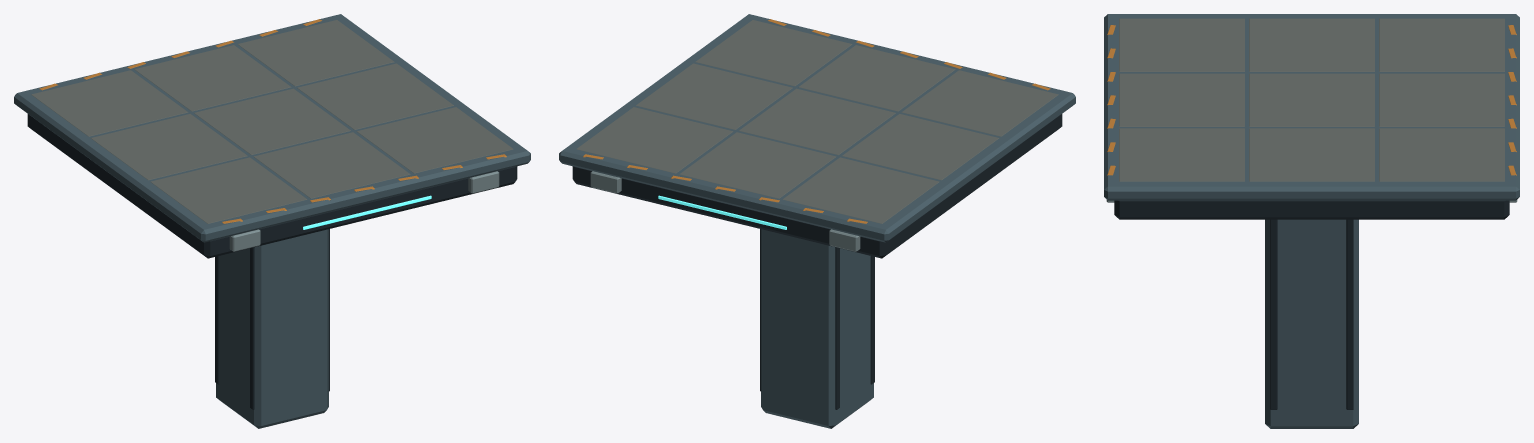
Rendered from wsc-kit-009-reveal-lift-deck.glb.
3 views of the same model, side by side, from view 1: azimuth 30°, elevation 25°; view 2: azimuth 150°, elevation 25°; view 3: azimuth 270°, elevation 25° (orthographic). The views are drawn at different scales.
Parts seen in each view (by area): view 1: C2_Lift_Moving_Deck; view 2: C2_Lift_Moving_Deck; view 3: C2_Lift_Moving_Deck.
Part boxes in pixels (left/top/right/bottom): C2_Lift_Moving_Deck: left=14, top=14, right=530, bottom=428; C2_Lift_Moving_Deck: left=559, top=14, right=1075, bottom=428; C2_Lift_Moving_Deck: left=1104, top=14, right=1519, bottom=428.
Bounding box in the file's own units: 6 × 4.96 × 6.
